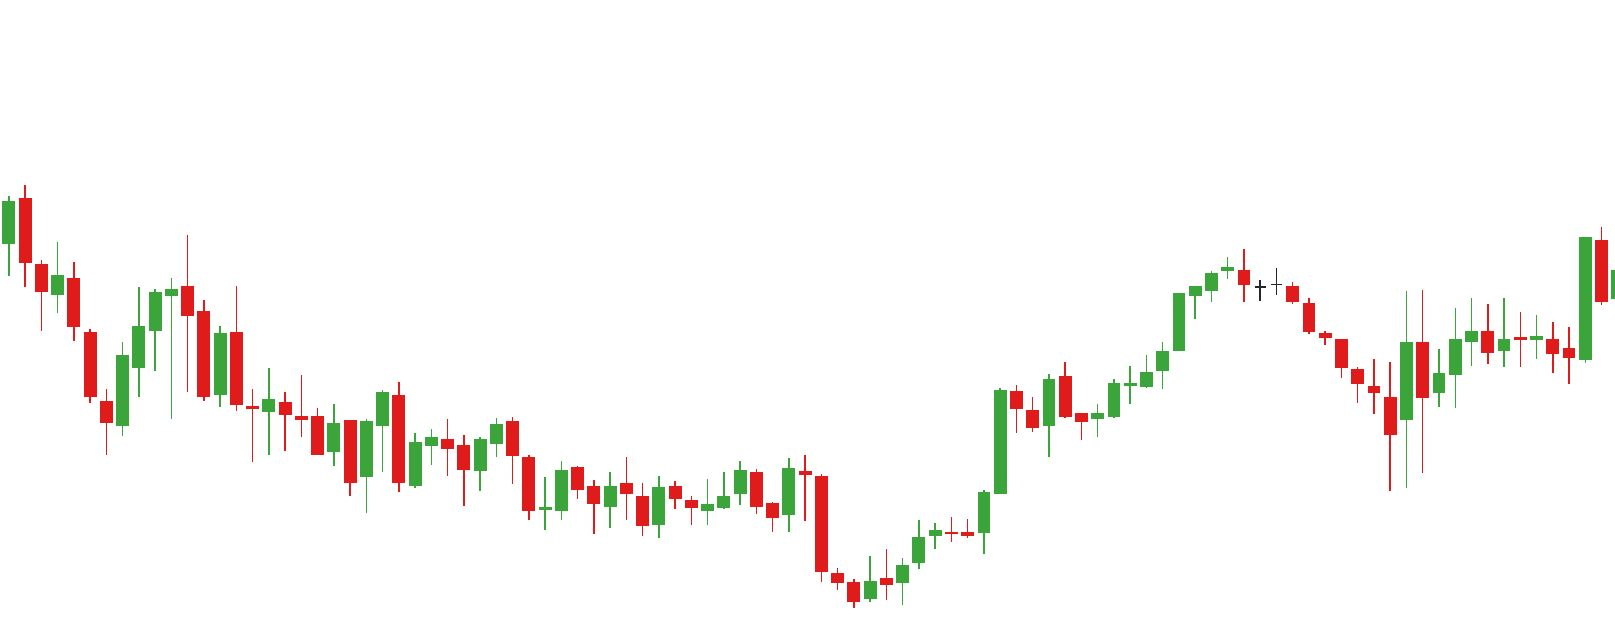buy: (1042, 337, 1412, 488)
